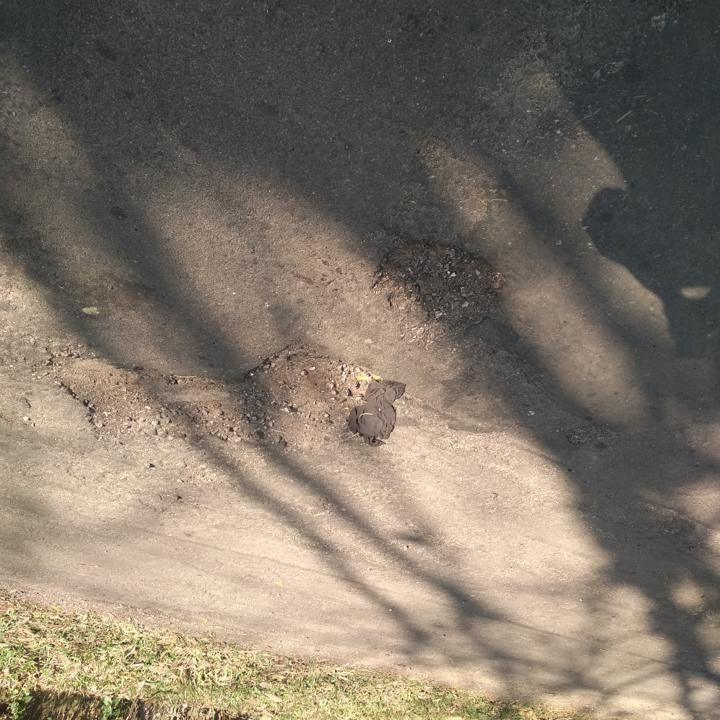pothole: (40, 338, 386, 455), (365, 239, 507, 334)
